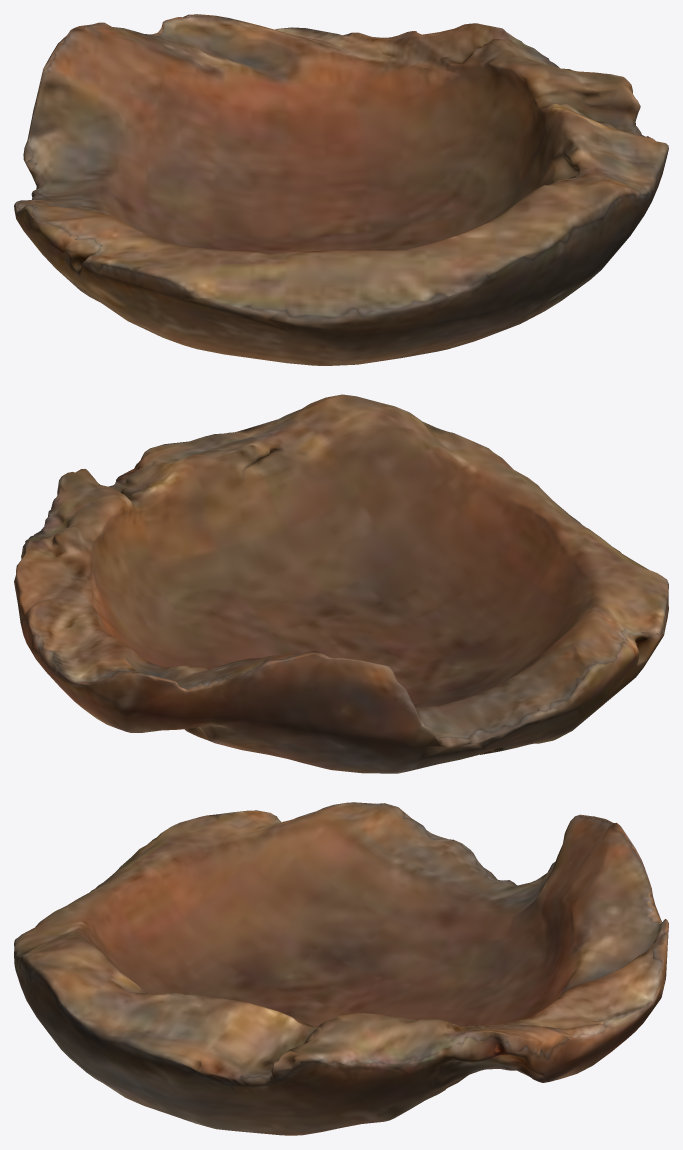
The model's file is th_holzschale.glb.
The picture shows the model from 3 angles, top to bottom: view 1: azimuth 30°, elevation 25°; view 2: azimuth 150°, elevation 25°; view 3: azimuth 270°, elevation 25°; orthographic projection. The views are drawn at different scales.
Visible parts, largest first — view 1: wooden_bowl_01; view 2: wooden_bowl_01; view 3: wooden_bowl_01.
Part boxes in pixels (x1,y1,x2,y2): wooden_bowl_01: (14, 14, 668, 365); wooden_bowl_01: (14, 394, 668, 773); wooden_bowl_01: (14, 802, 668, 1135).
Bounding box in the file's own units: 0.313 × 0.0937 × 0.3091.
1 material, 1 textured.
